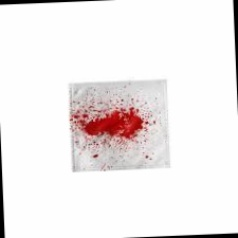blood: (80, 108, 145, 142)
